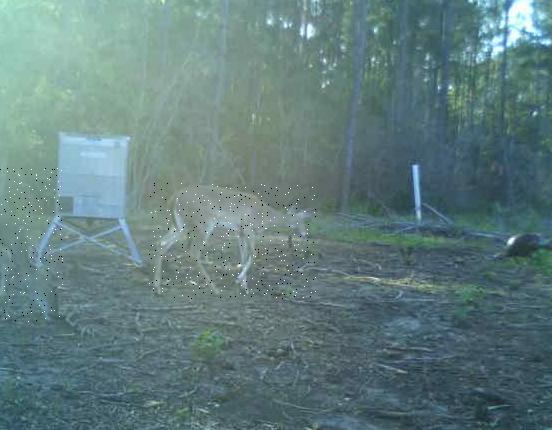Deer: (150, 183, 317, 299), (0, 168, 63, 323)
